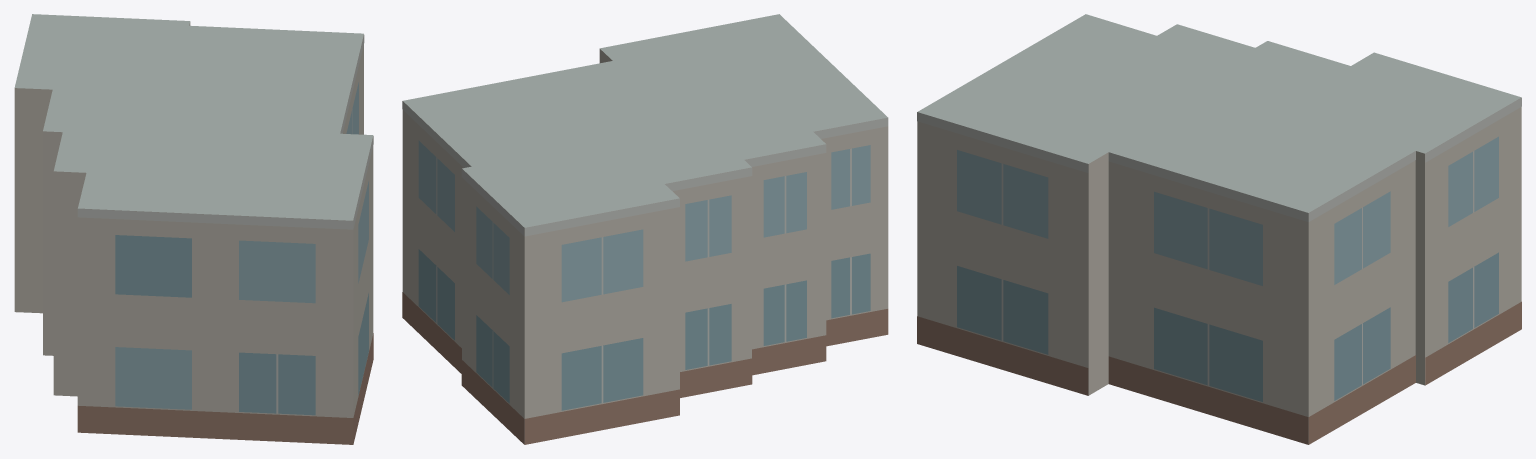
The model's file is survey-upis-32962039.glb.
The picture shows the model from 3 angles, left to right: view 1: azimuth 30°, elevation 25°; view 2: azimuth 150°, elevation 25°; view 3: azimuth 270°, elevation 25°; orthographic projection. The views are drawn at different scales.
Parts seen in each view (by area): view 1: survey-upis-32962039.tmp; view 2: survey-upis-32962039.tmp; view 3: survey-upis-32962039.tmp.
Part boxes in pixels (x1=…): survey-upis-32962039.tmp: x1=14, y1=14, x2=373, y2=444; survey-upis-32962039.tmp: x1=402, y1=14, x2=888, y2=444; survey-upis-32962039.tmp: x1=917, y1=14, x2=1521, y2=444.
Size of the model in its own units: 11.23 by 6.1 by 14.42.
